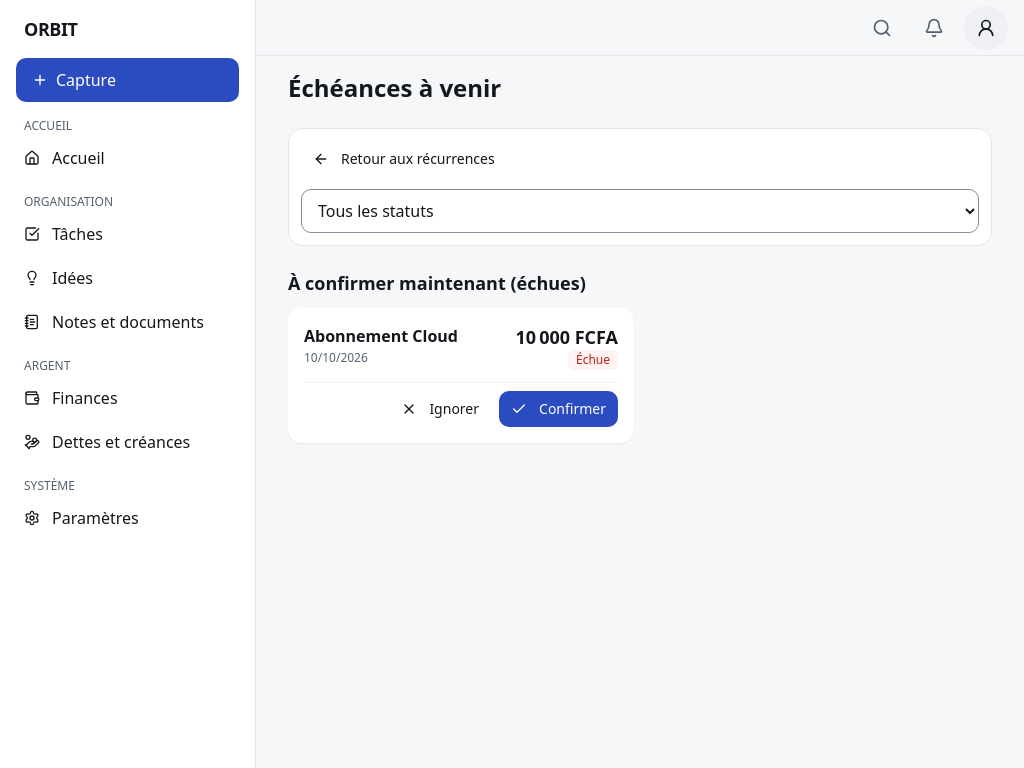
Test: Finance - À venir (/finance/upcoming) › lists expected occurrences with overdue badges and allows confirming an occurrence
Expected: the heading "Échéances à venir" is shown, [288,72,501,104]
Expected: the text "Échue" is shown, [568,350,618,370]
Step 1. Click the button "Confirmer" → (558, 409), box [499,391,618,427]
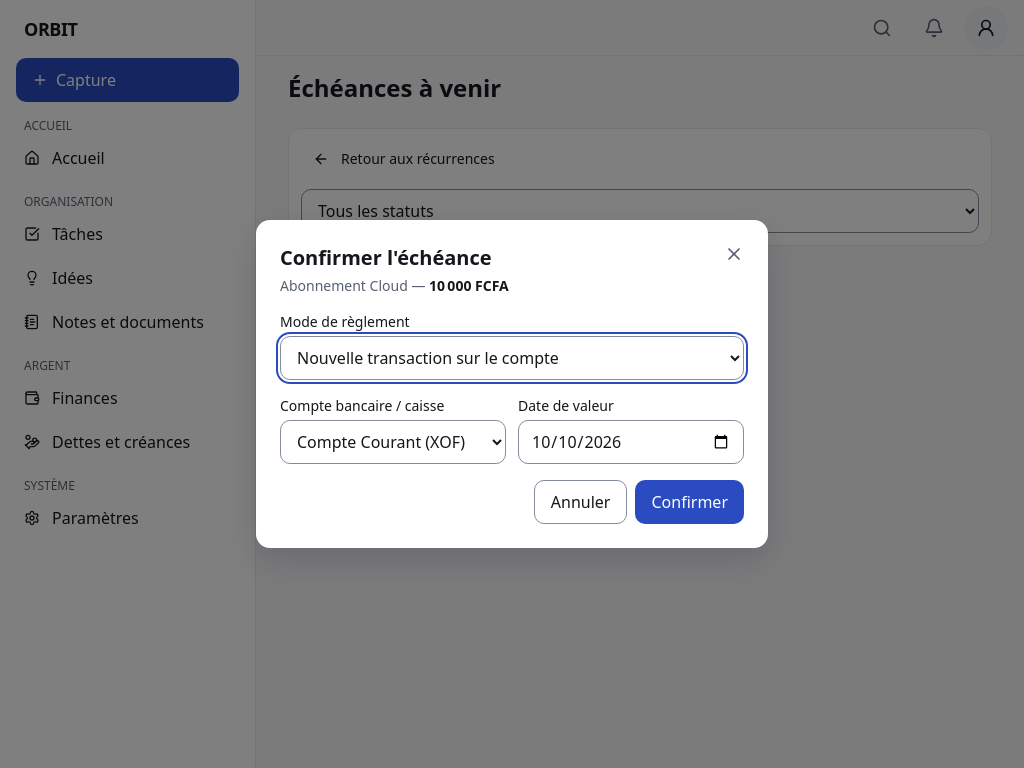
Now the heading "Confirmer l'échéance" is shown, box [280,244,492,271]
Step 2. Click the button "Confirmer" → (690, 502), box [636,480,744,524]
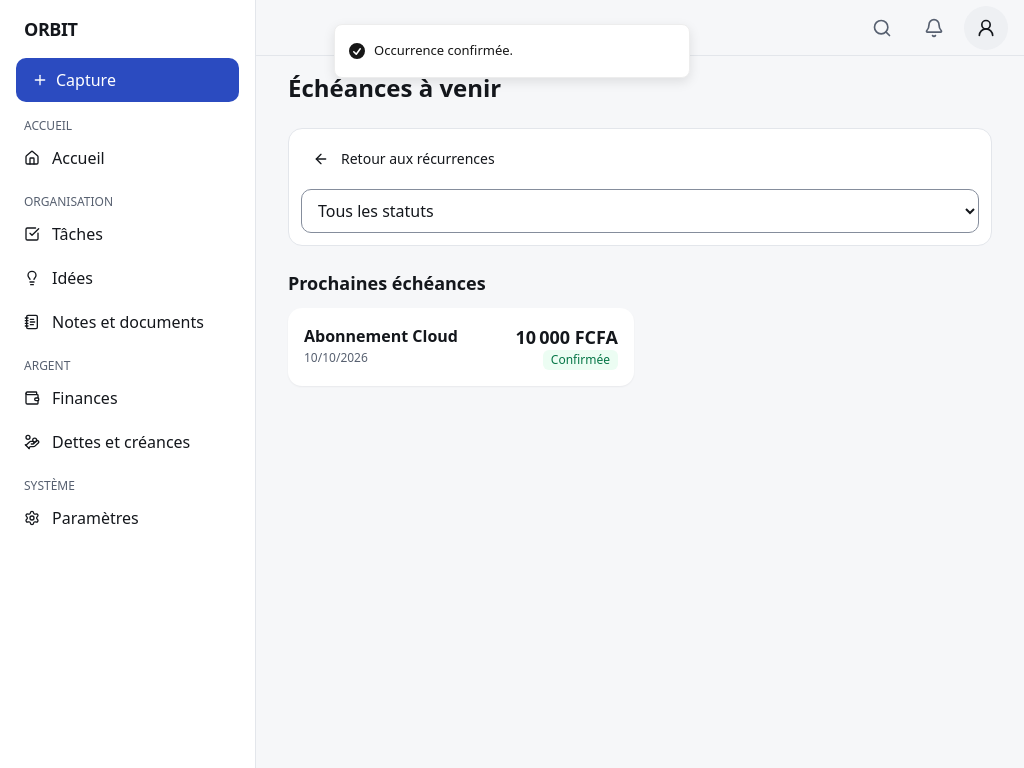
Now the heading "Confirmer l'échéance" is gone
